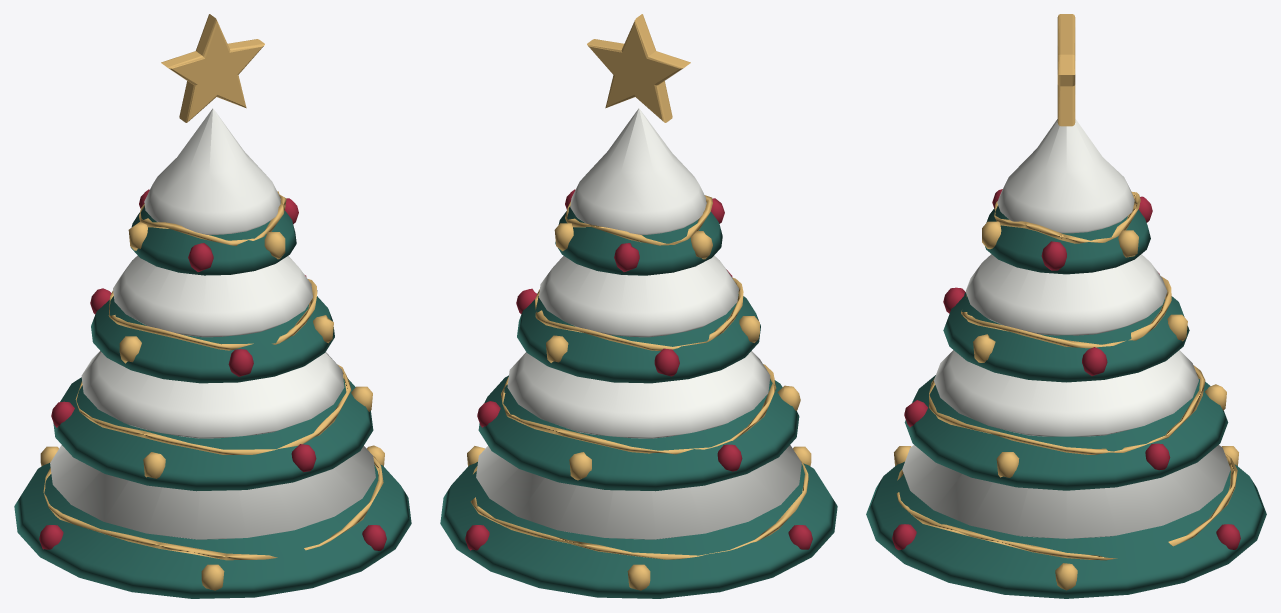
Rendered from bigfir.glb.
The picture shows the model from 3 angles, left to right: view 1: azimuth 30°, elevation 25°; view 2: azimuth 150°, elevation 25°; view 3: azimuth 270°, elevation 25°; orthographic projection.
Visible parts, largest first — view 1: pine, cream, brass, berry; view 2: pine, cream, brass, berry; view 3: pine, cream, brass, berry.
Part boxes in pixels (x1=…): pine: x1=14, y1=206, x2=411, y2=598; cream: x1=50, y1=108, x2=375, y2=539; brass: x1=40, y1=14, x2=384, y2=590; berry: x1=39, y1=189, x2=386, y2=550; pine: x1=440, y1=206, x2=837, y2=598; cream: x1=476, y1=108, x2=801, y2=539; brass: x1=467, y1=14, x2=811, y2=590; berry: x1=465, y1=189, x2=812, y2=550; pine: x1=866, y1=205, x2=1266, y2=598; cream: x1=902, y1=119, x2=1230, y2=538; brass: x1=894, y1=14, x2=1238, y2=590; berry: x1=892, y1=189, x2=1240, y2=550.
Size of the model in its own units: 2.21 by 3.48 by 2.21.
